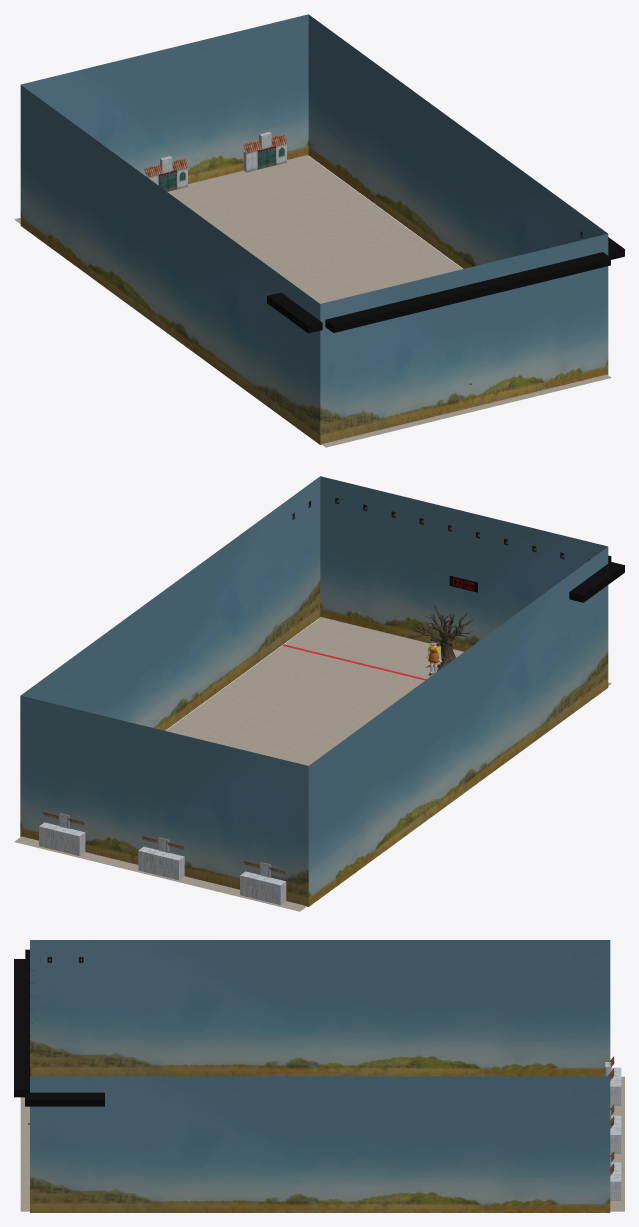
File: arena.glb
3 renders of one model, top to bottom at view 1: azimuth 30°, elevation 25°; view 2: azimuth 150°, elevation 25°; view 3: azimuth 270°, elevation 25°, orthographic. The views are drawn at different scales.
Parts seen in each view (by area): view 1: walls, sand, black, Cube.002, black.001, Cube.001; view 2: walls, sand, Cube.001, Cube, Cube.002, Tree_tree2_0, black.001; view 3: walls, black, sand, black.002, Cube, Cube.002, Cube.001.
Part boxes in pixels (x1,y1,x2,y2): walls: (20, 14, 608, 444); sand: (14, 155, 611, 447); black: (325, 252, 610, 332); Cube.002: (243, 132, 286, 172); black.001: (267, 292, 322, 333); Cube.001: (144, 156, 187, 191); walls: (20, 476, 608, 906); sand: (14, 617, 611, 911); Cube.001: (138, 837, 184, 880); Cube: (240, 862, 286, 904); Cube.002: (39, 813, 85, 855); Tree_tree2_0: (407, 605, 473, 671); black.001: (569, 562, 624, 602); walls: (30, 940, 610, 1212); black: (14, 959, 29, 1097); sand: (20, 1076, 624, 1211); black.002: (25, 1092, 104, 1106); Cube: (605, 1062, 621, 1105); Cube.002: (610, 1157, 621, 1200); Cube.001: (610, 1110, 621, 1153).
Bounding box in the file's own units: 44.6 × 19.71 × 77.01.
Materials: 22 (12 with a texture image).
